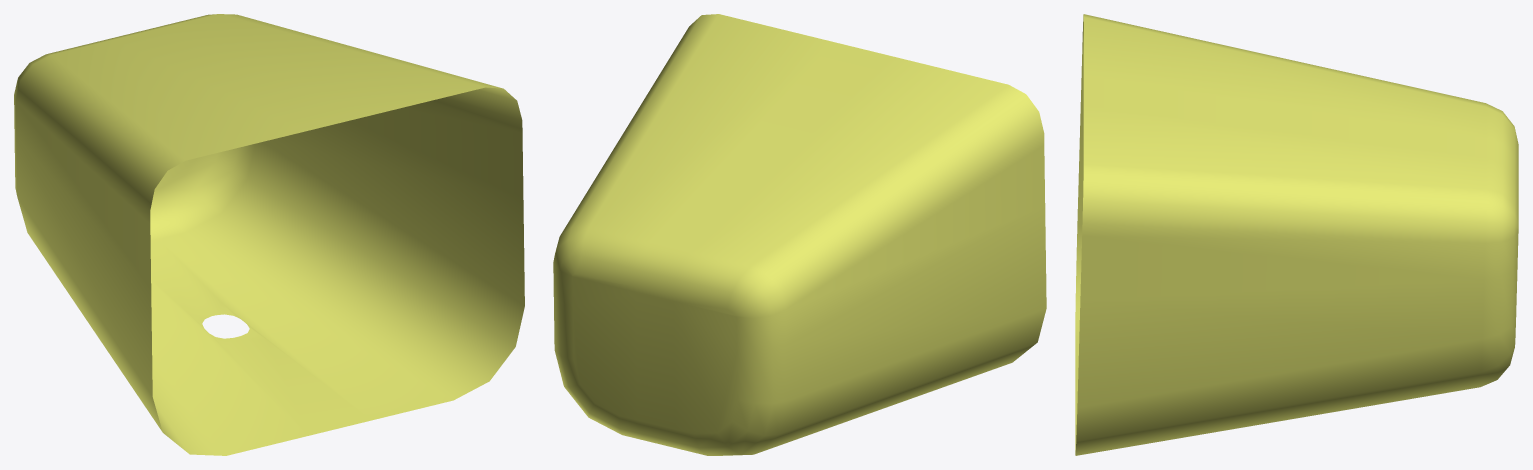
File: cessnagodotnose.glb
3 views of the same model, side by side, from view 1: azimuth 30°, elevation 25°; view 2: azimuth 150°, elevation 25°; view 3: azimuth 270°, elevation 25° (orthographic). The views are drawn at different scales.
Visible parts, largest first — view 1: Fusalage.008; view 2: Fusalage.008; view 3: Fusalage.008.
Part boxes in pixels (left/top/right/bottom): Fusalage.008: left=14, top=14, right=524, bottom=455; Fusalage.008: left=553, top=14, right=1046, bottom=455; Fusalage.008: left=1075, top=14, right=1518, bottom=455.
Bounding box in the file's own units: 1.15 × 0.8915 × 1.19.
